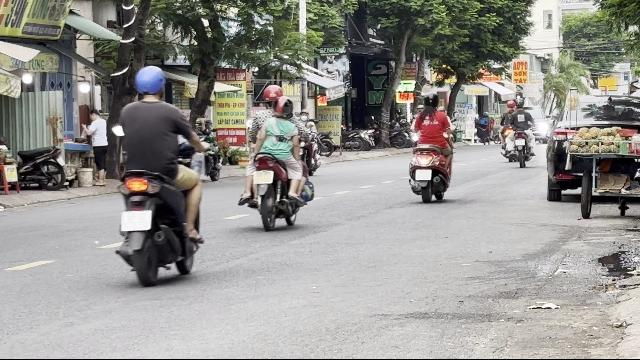helmet: (133, 64, 167, 100), (261, 84, 283, 106), (274, 96, 294, 116), (422, 92, 438, 109)
licenseplate: (121, 211, 151, 231), (253, 170, 273, 184), (416, 170, 432, 180)
motorcyclist: (111, 64, 207, 286), (237, 83, 316, 229), (405, 90, 455, 202)
